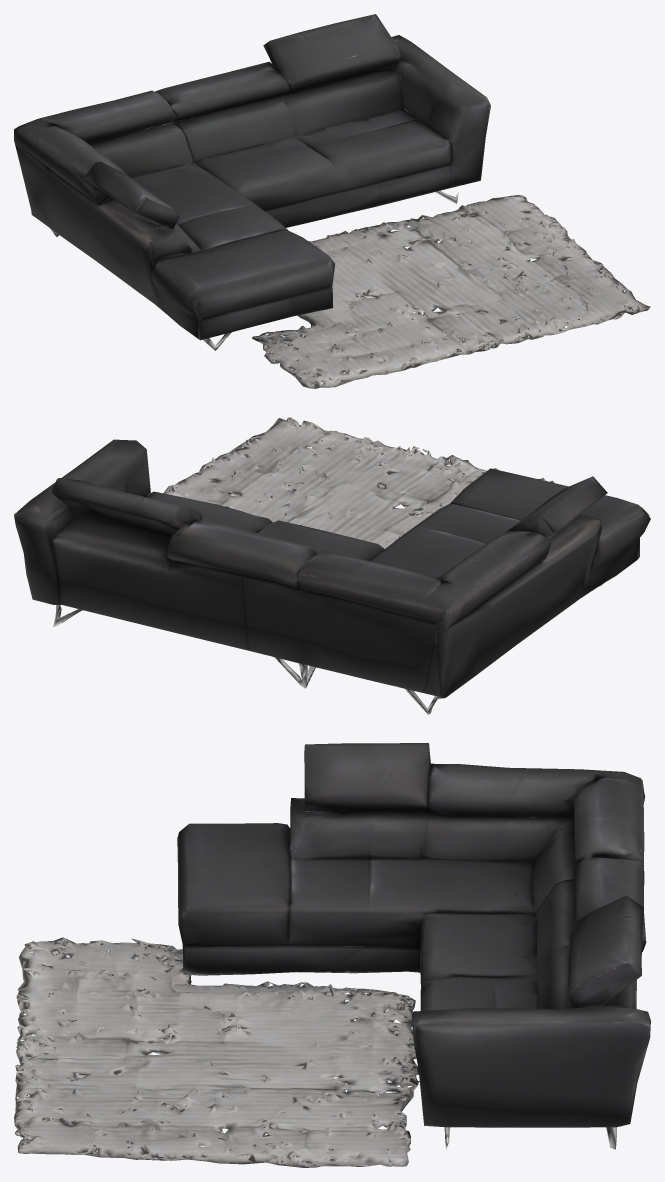
Rendered from table-2.glb.
3 renders of one model, top to bottom at view 1: azimuth 30°, elevation 25°; view 2: azimuth 150°, elevation 25°; view 3: azimuth 270°, elevation 25°, orthographic. The views are drawn at different scales.
Bounding box in the file's own units: 1.98 × 0.6245 × 1.99.
Materials: 1 (1 with a texture image).
